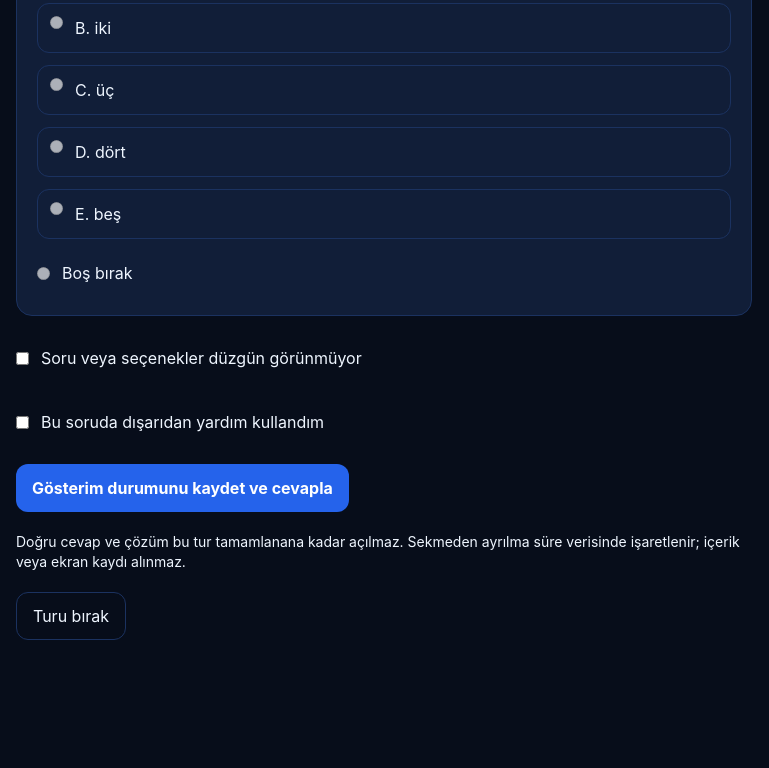
Test case: measurement learner › retries exactly the same locked answer after connection loss
(page scrolled)
Step 1. Click the button "Gösterim durumunu kaydet ve cevapla" → (182, 488), box [16,464,349,512]
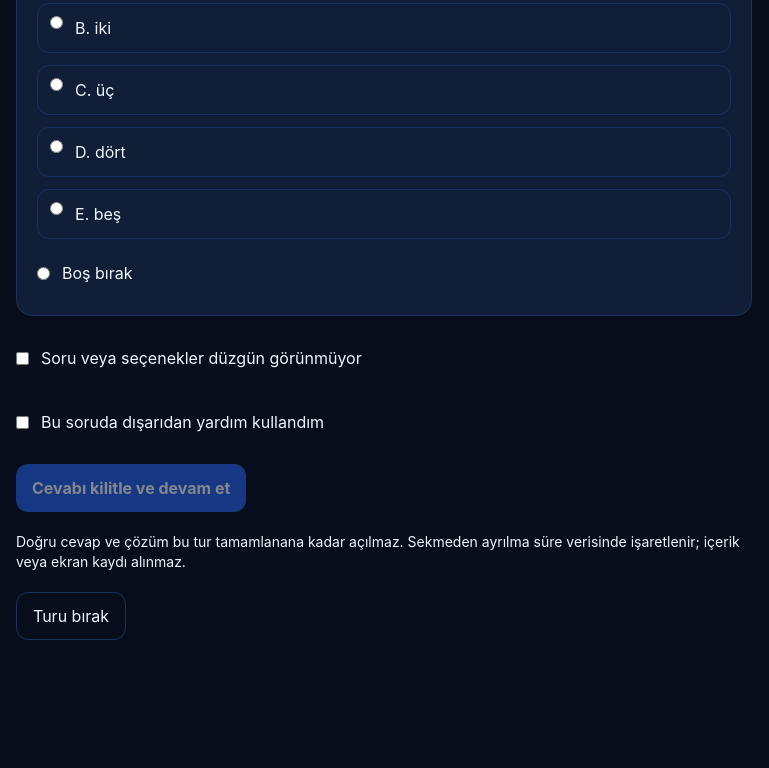
Expected: the button "Cevabı kilitle ve devam et" is shown, [16,464,246,512]
Step 2. Click the radio button labelled "B. iki" → (56, 22), box [50,16,63,29]
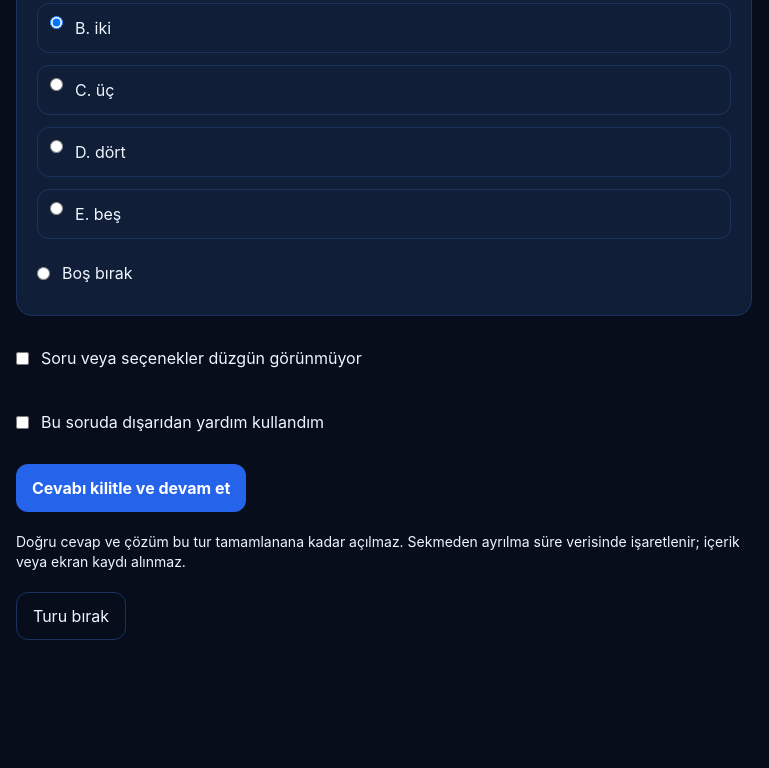
Step 3. Click the button "Cevabı kilitle ve devam et" → (131, 488), box [16,464,246,512]
(page scrolled)
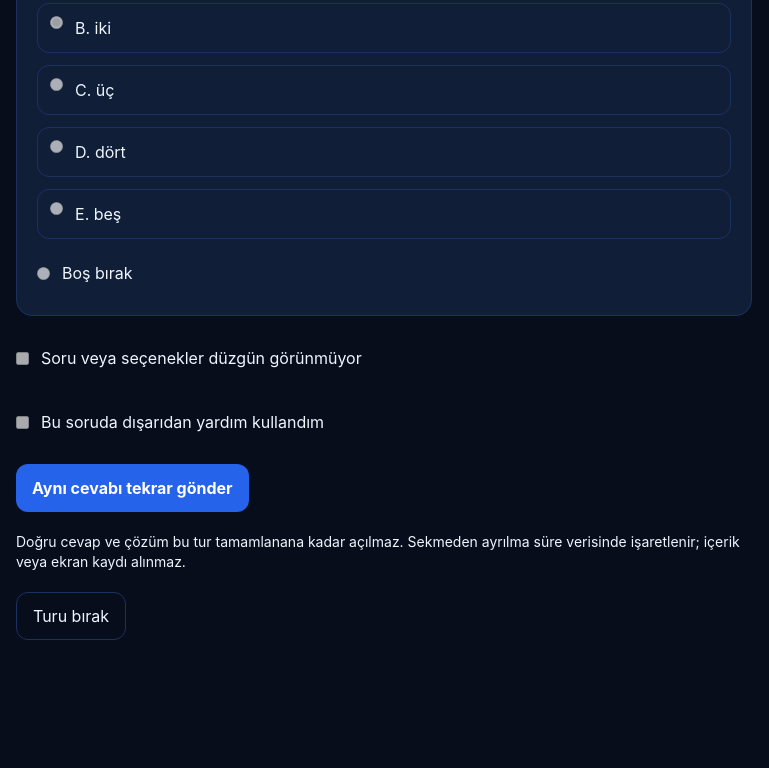
Step 4. Click the button "Aynı cevabı tekrar gönder" → (132, 488), box [16,464,249,512]
(page scrolled)
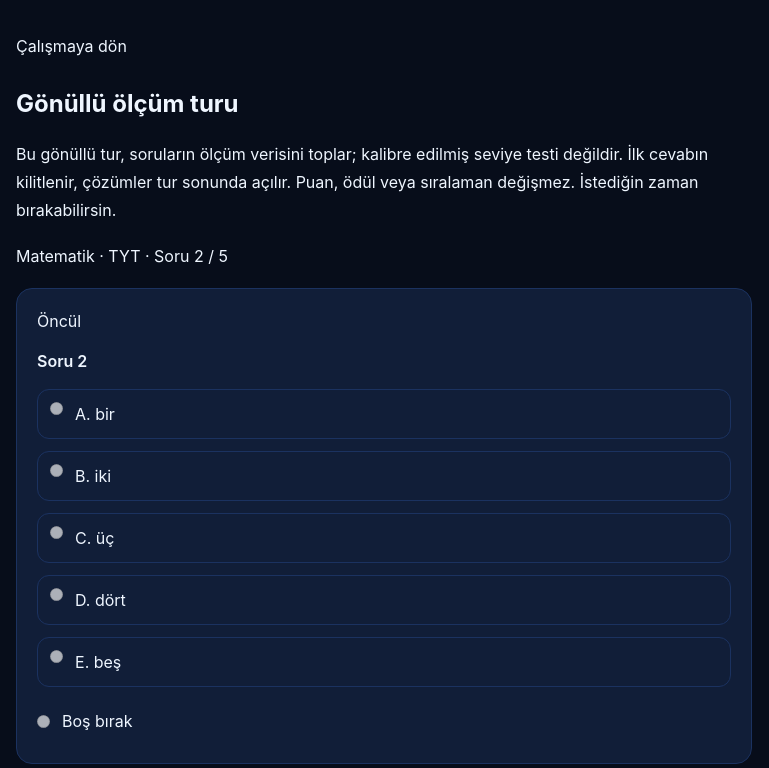
Expected: the heading "Soru 2" is shown, [37,351,87,371]
